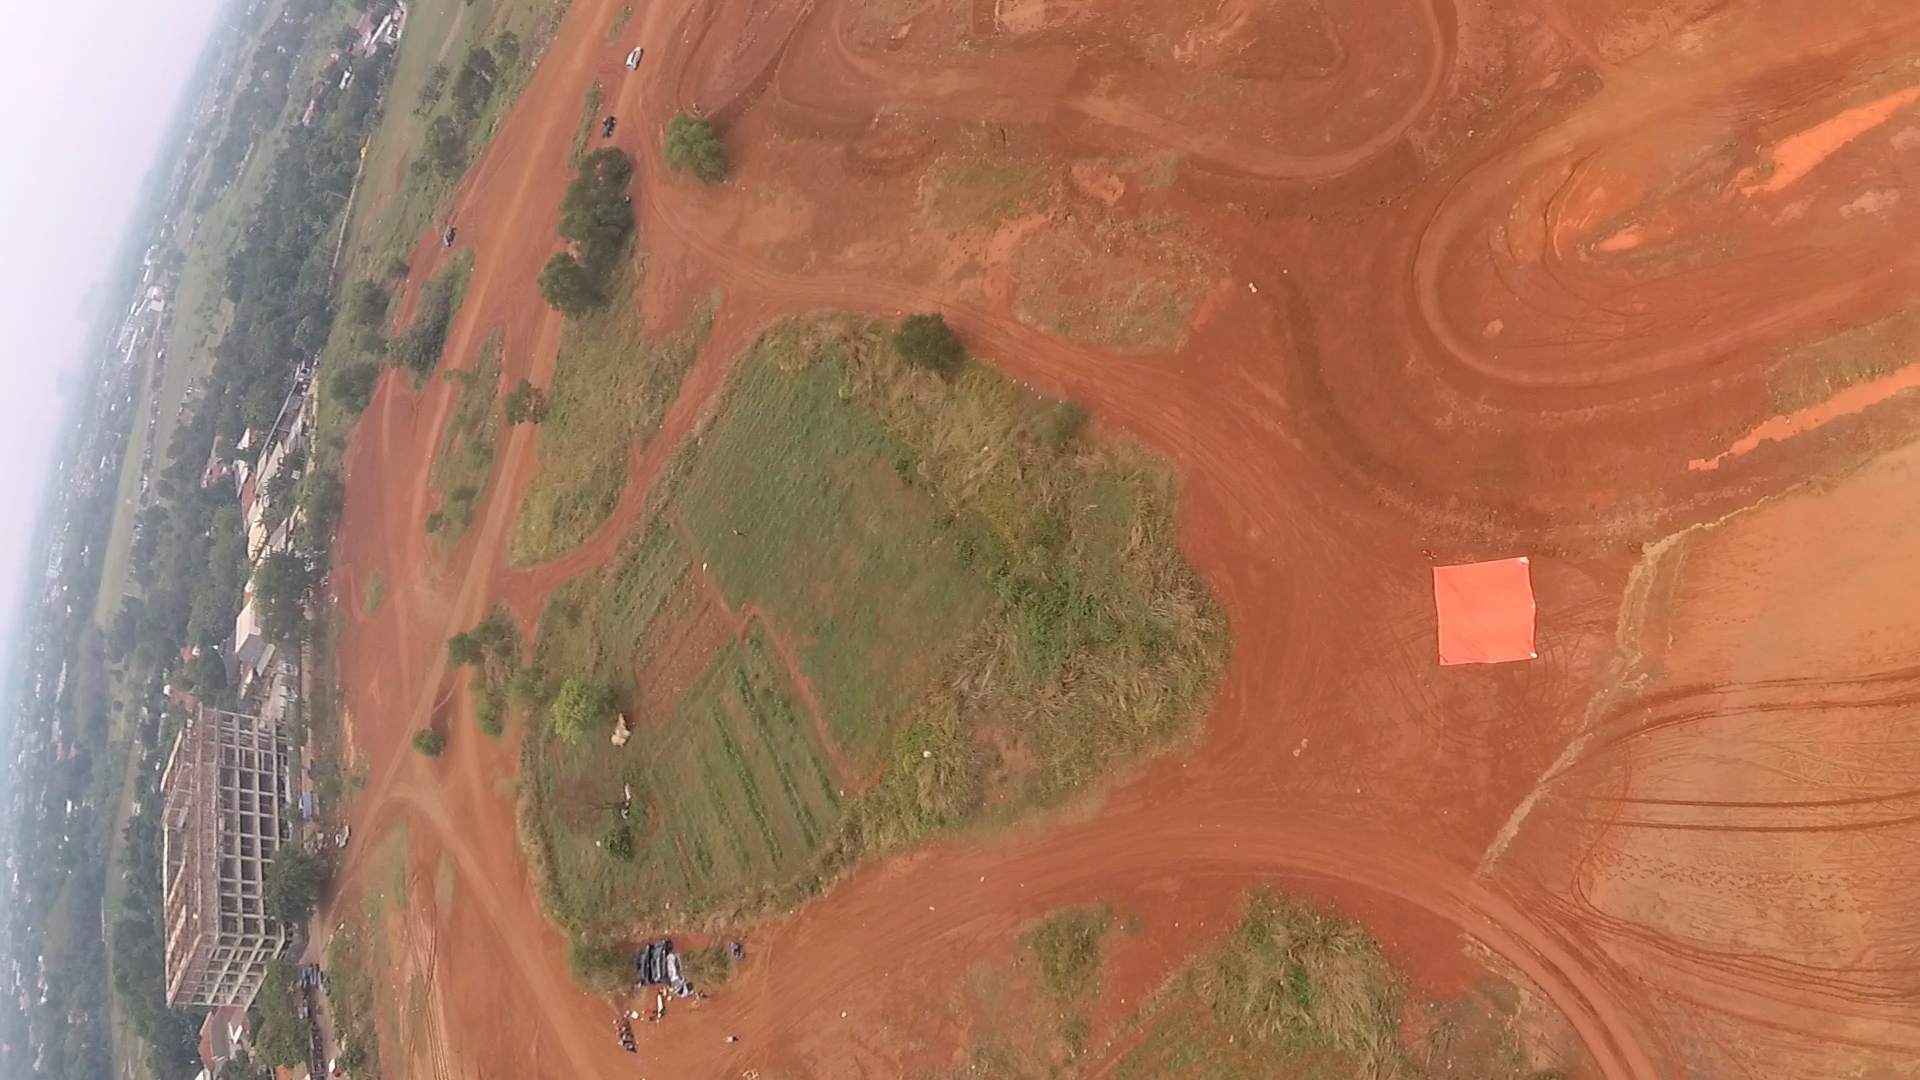Orange Dropzone: (1429, 555, 1539, 669)
